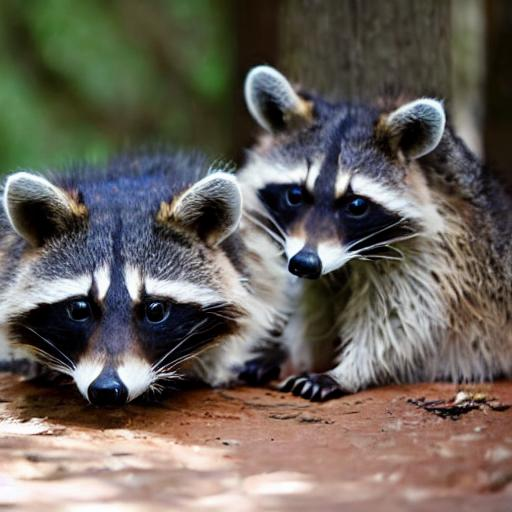raccoon: (234, 58, 512, 375), (0, 148, 282, 416)
